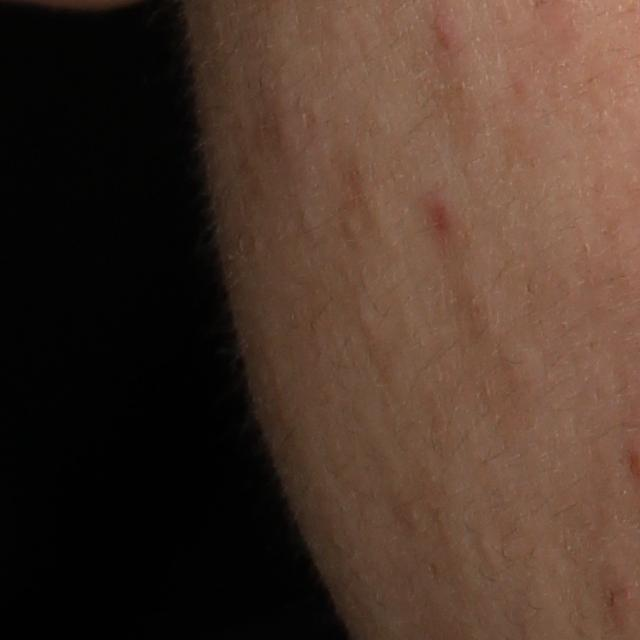comedo: (340, 215, 364, 242)
papule: (413, 193, 463, 243), (425, 12, 461, 60)
